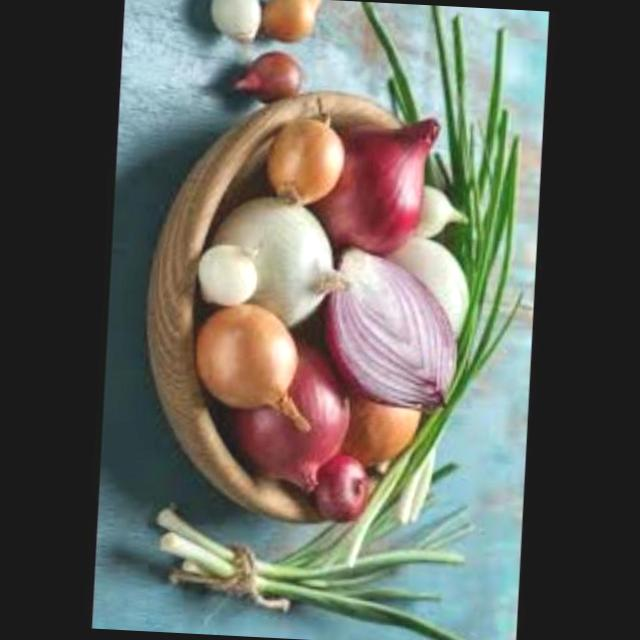onion: (320, 234, 466, 418), (236, 328, 360, 496), (328, 92, 448, 260), (215, 197, 358, 323), (192, 300, 320, 434), (335, 376, 431, 482), (393, 222, 488, 329), (263, 109, 349, 215), (178, 215, 274, 308), (392, 178, 476, 250), (312, 447, 369, 531), (232, 50, 309, 106), (199, 0, 275, 45), (261, 0, 326, 47)
